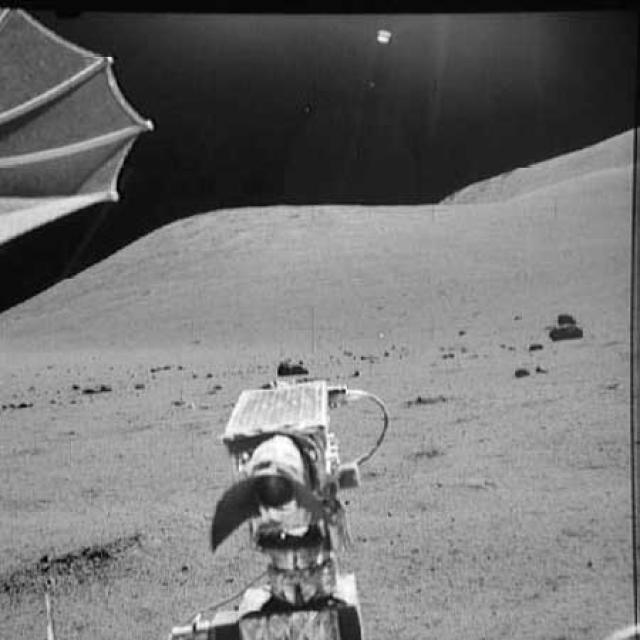artifact: (169, 371, 401, 639), (0, 7, 160, 264)
rock: (548, 309, 580, 350), (274, 352, 310, 374), (76, 378, 109, 400), (514, 361, 532, 384)
